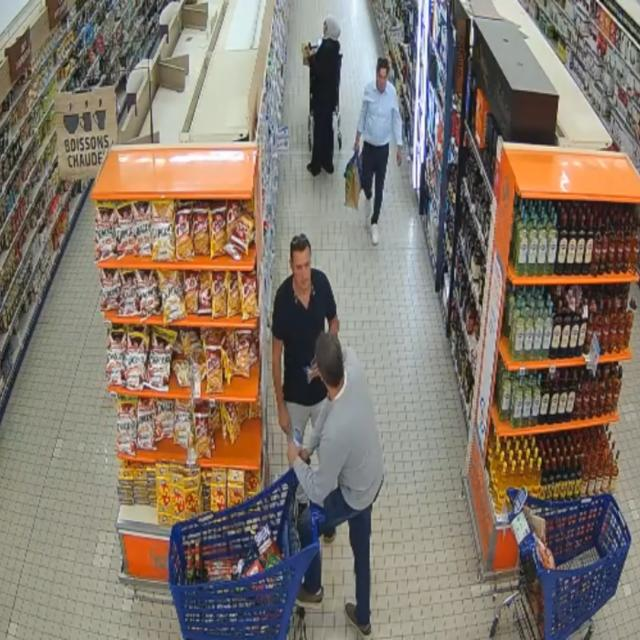article: (303, 365, 312, 385)
bags: (345, 153, 361, 209)
hands: (278, 404, 290, 434), (288, 442, 300, 465), (308, 363, 320, 382), (300, 448, 310, 463), (354, 133, 361, 154), (397, 147, 402, 166)
person: (288, 334, 383, 637), (272, 235, 339, 443), (355, 59, 402, 244), (308, 16, 340, 176)
